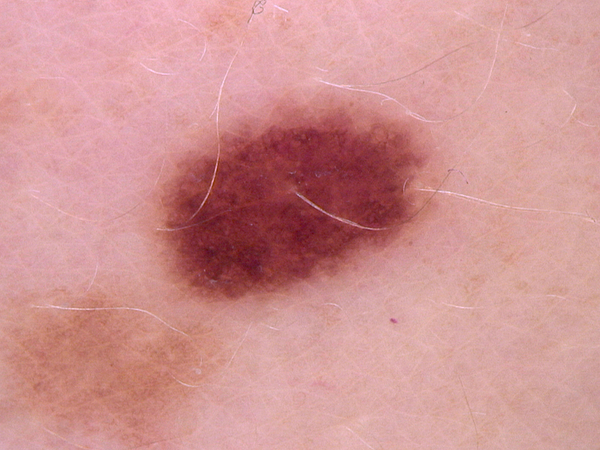Detected Lesion: (1, 91, 436, 450)
